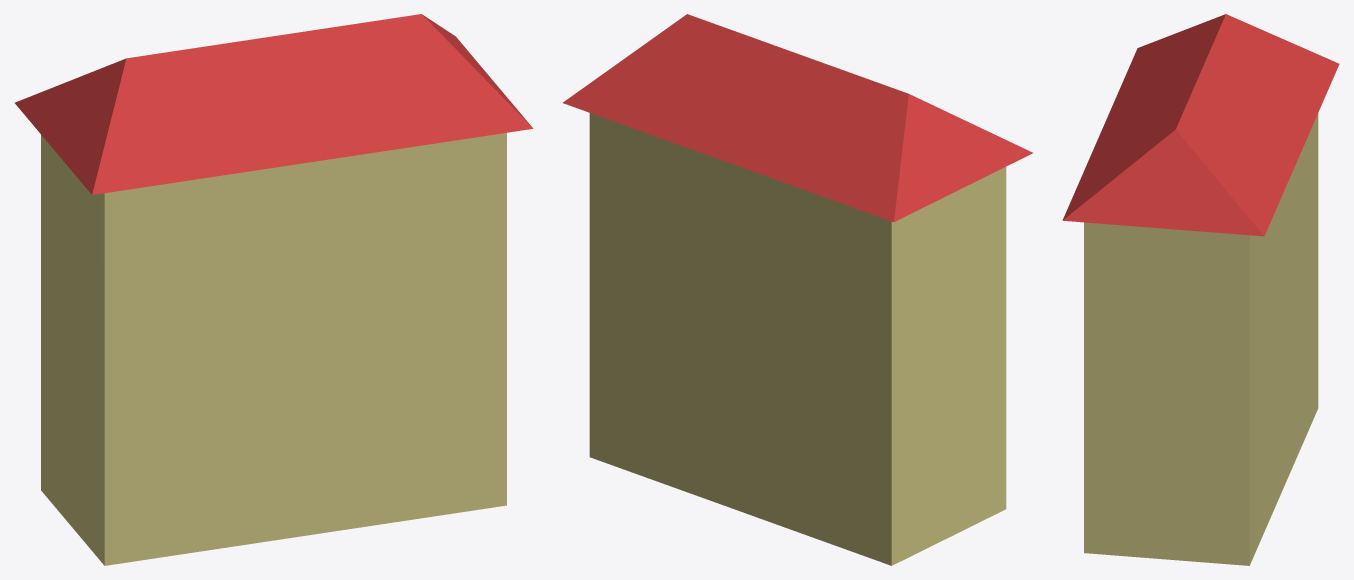
3 views of the same model, side by side, from view 1: azimuth 30°, elevation 25°; view 2: azimuth 150°, elevation 25°; view 3: azimuth 270°, elevation 25° (orthographic). The views are drawn at different scales.
Visible parts, largest first — view 1: group_5, group_3; view 2: group_5, group_3; view 3: group_5, group_3.
Boxes of the visible parts, bbox=[...] form: group_5: bbox=[41, 133, 506, 565]; group_3: bbox=[14, 14, 533, 194]; group_5: bbox=[589, 113, 1006, 565]; group_3: bbox=[563, 14, 1032, 222]; group_5: bbox=[1084, 113, 1318, 565]; group_3: bbox=[1062, 14, 1339, 236].
Size of the model in its own units: 18.17 by 11.3 by 18.41.
